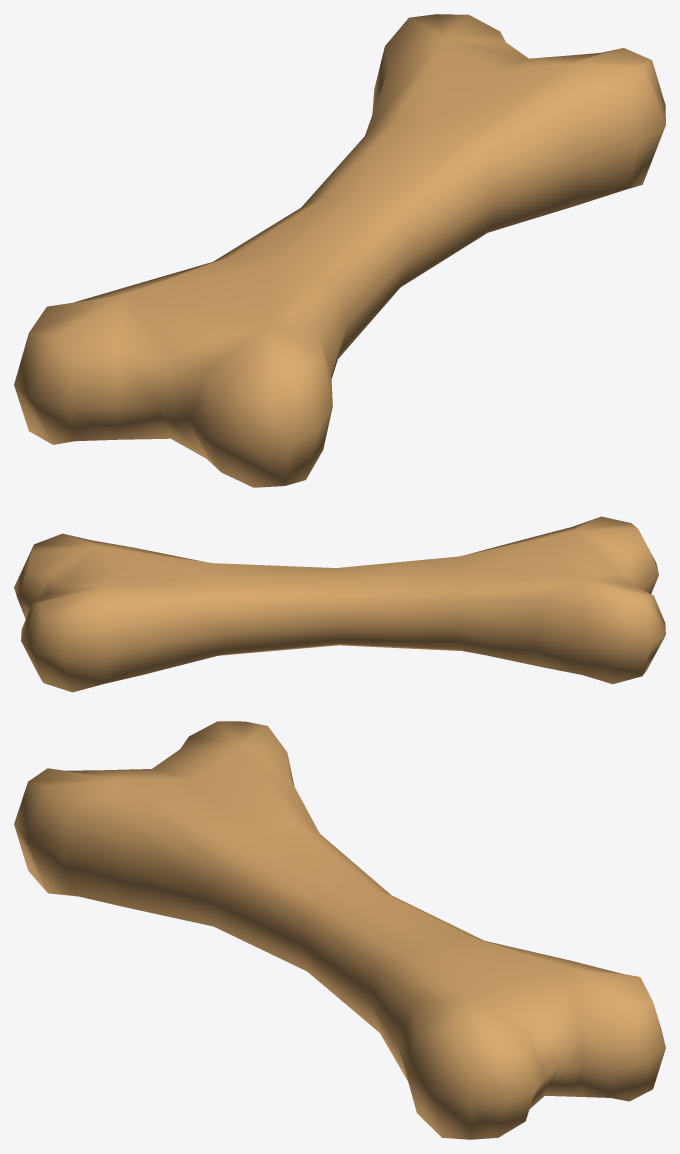
File: Bone.fbx
The picture shows the model from 3 angles, top to bottom: view 1: azimuth 30°, elevation 25°; view 2: azimuth 150°, elevation 25°; view 3: azimuth 270°, elevation 25°; orthographic projection. The views are drawn at different scales.
Visible parts, largest first — view 1: Bone; view 2: Bone; view 3: Bone.
Boxes of the visible parts, x1,y1,x2,y2 form: Bone: (14,14,665,487); Bone: (14,516,665,692); Bone: (14,721,665,1139).
Size of the model in its own units: 4.68 by 0.7748 by 3.77.
